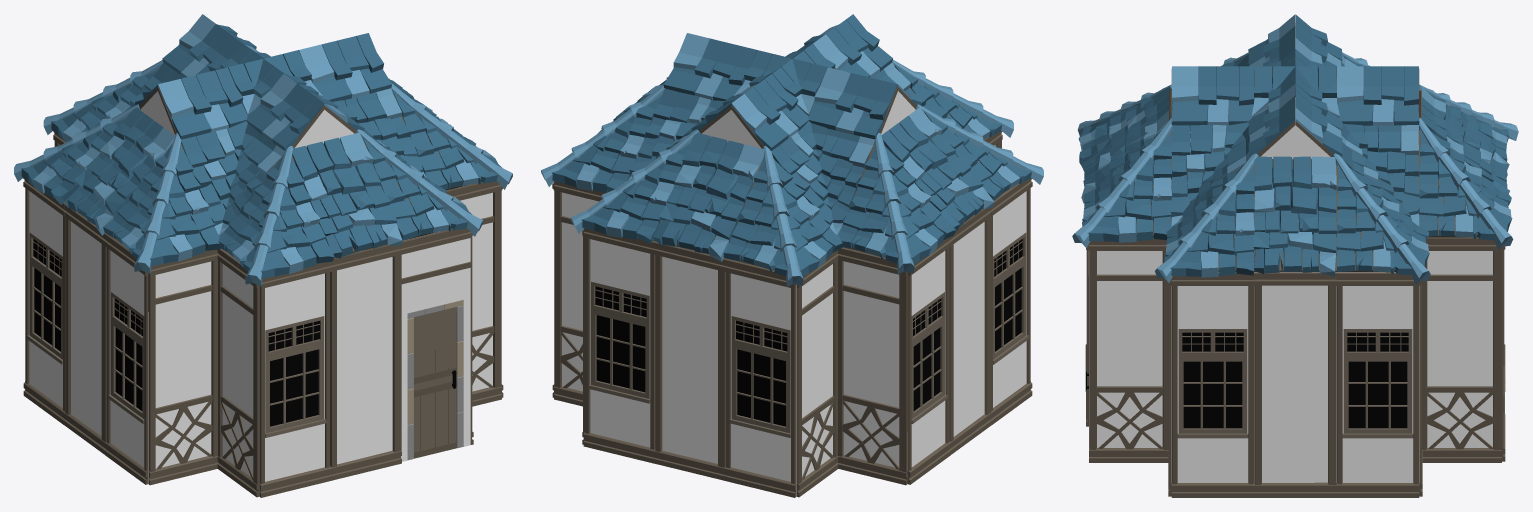
File: House_03_full.fbx
3 renders of one model, left to right at view 1: azimuth 30°, elevation 25°; view 2: azimuth 150°, elevation 25°; view 3: azimuth 270°, elevation 25°, orthographic.
Visible parts, largest first — view 1: WALL_03_3, WINDOW_04_3, DOOR_02_2, WALL_04_4, WINDOW_04_4, WALL_03_4, WALL_04_3, WINDOW_04_5, ROOF_base_3, ROOF_corner_out_9, ROOF_corner_out_3, WALL_04_9 (+18 smaller); view 2: WALL_03_5, WINDOW_04_6, WINDOW_04_7, WALL_04_5, WINDOW_04_5, WALL_03_4, WALL_04_6, WINDOW_04_4, ROOF_base_5, ROOF_corner_out_6, ROOF_corner_out_8, WALL_04_8 (+17 smaller); view 3: WINDOW_04_8, WALL_03_6, WINDOW_04_9, WALL_04_7, WALL_04_10, ROOF_base_4, ROOF_corner_out_5, ROOF_corner_out_4, ROOF_corner_out_2, ROOF_corner_out_7, ROOF_inner_corner_3, ROOF_inner_corner_4 (+16 smaller).
Boxes of the visible parts, box(x1,y1,x2,y2) form: WALL_03_3: box(330, 244, 401, 480); WINDOW_04_3: box(259, 262, 331, 497); DOOR_02_2: box(401, 228, 472, 461); WALL_04_4: box(148, 249, 218, 485); WINDOW_04_4: box(104, 233, 148, 484); WALL_03_4: box(64, 204, 106, 454); WALL_04_3: box(217, 248, 259, 497); WINDOW_04_5: box(23, 178, 65, 424); ROOF_base_3: box(292, 132, 402, 258); ROOF_corner_out_9: box(103, 133, 220, 273); ROOF_corner_out_3: box(218, 146, 334, 286); WALL_04_9: box(446, 181, 502, 406); WALL_03_5: box(654, 241, 725, 480); WINDOW_04_6: box(724, 258, 796, 497); WINDOW_04_7: box(583, 228, 655, 463); WALL_04_5: box(837, 247, 907, 485); WINDOW_04_5: box(907, 237, 951, 484); WALL_03_4: box(949, 208, 991, 454); WALL_04_6: box(796, 250, 838, 497); WINDOW_04_4: box(990, 178, 1032, 424); ROOF_base_5: box(653, 133, 764, 261); ROOF_corner_out_6: box(723, 146, 842, 286); ROOF_corner_out_8: box(838, 133, 956, 274); WALL_04_8: box(553, 181, 606, 406); WINDOW_04_8: box(1336, 272, 1419, 497); WALL_03_6: box(1254, 272, 1336, 497); WINDOW_04_9: box(1171, 272, 1254, 497); WALL_04_7: box(1422, 237, 1501, 462); WALL_04_10: box(1089, 237, 1168, 462); ROOF_base_4: box(1253, 156, 1336, 276); ROOF_corner_out_5: box(1155, 153, 1258, 282); ROOF_corner_out_4: box(1332, 153, 1430, 284); ROOF_corner_out_2: box(1072, 118, 1172, 248); ROOF_corner_out_7: box(1419, 117, 1513, 249); ROOF_inner_corner_3: box(1170, 122, 1249, 226); ROOF_inner_corner_4: box(1341, 122, 1420, 225).
Bounding box in the file's own units: 541 × 459 × 541.
